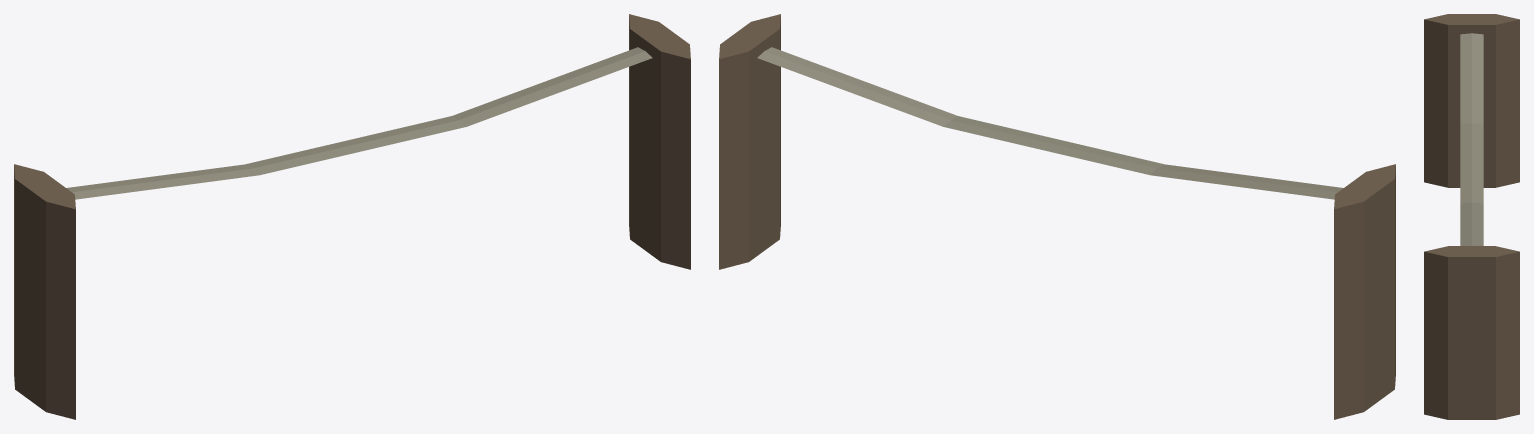
Rendered from laundry_line.glb.
3 renders of one model, left to right at view 1: azimuth 30°, elevation 25°; view 2: azimuth 150°, elevation 25°; view 3: azimuth 270°, elevation 25°, orthographic. The views are drawn at different scales.
Parts seen in each view (by area): view 1: laundry_line; view 2: laundry_line; view 3: laundry_line.
Boxes of the visible parts, box(x1,y1,x2,y2) form: laundry_line: box(14, 14, 690, 419); laundry_line: box(719, 14, 1395, 419); laundry_line: box(1424, 14, 1519, 419).
Bounding box in the file's own units: 5.76 × 1.8 × 0.96.
